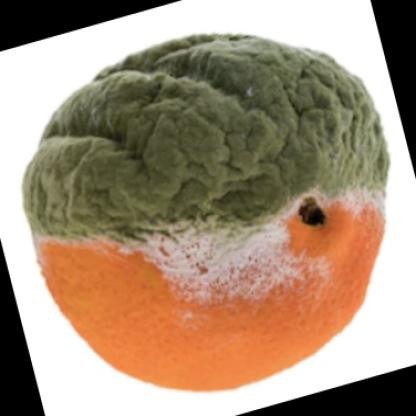rotten: (29, 34, 385, 392)
